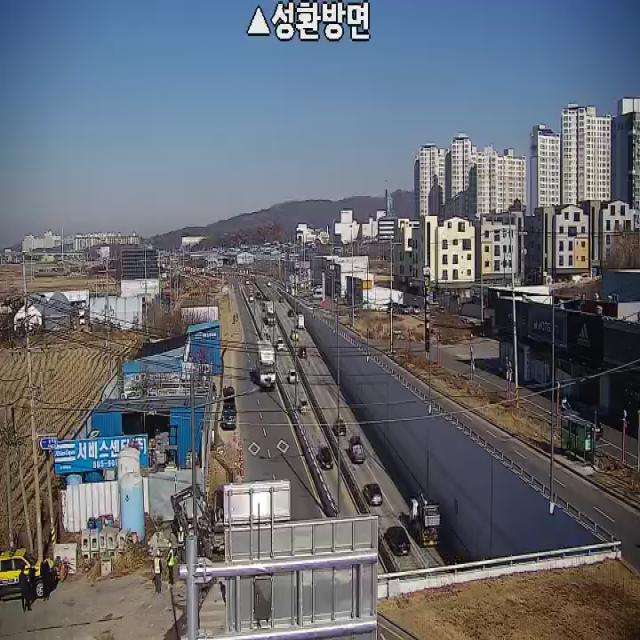Car: (0, 546, 57, 601), (572, 414, 602, 442), (384, 526, 410, 556), (348, 435, 366, 463), (362, 484, 383, 506), (318, 446, 334, 470), (334, 417, 346, 436), (288, 369, 298, 384), (276, 335, 284, 351), (298, 346, 306, 359), (298, 313, 304, 330), (291, 328, 298, 341), (288, 309, 295, 318)
Truck: (166, 480, 240, 578), (410, 492, 440, 547), (258, 340, 276, 388), (222, 385, 235, 429), (262, 300, 276, 327)
